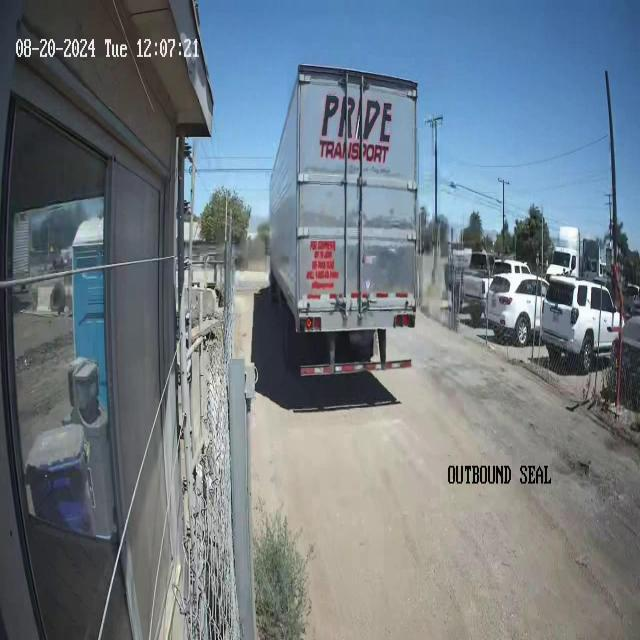TRUCK_OUT: (268, 62, 420, 360)
